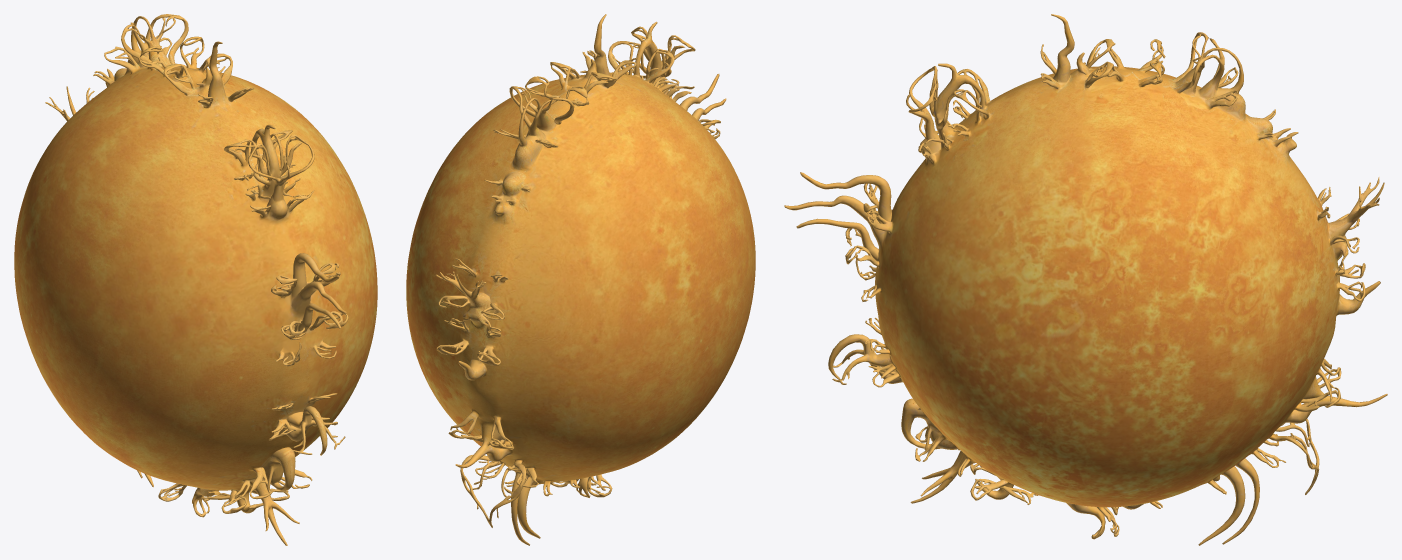
The model's file is sun-model.glb.
The picture shows the model from 3 angles, left to right: view 1: azimuth 30°, elevation 25°; view 2: azimuth 150°, elevation 25°; view 3: azimuth 270°, elevation 25°; orthographic projection. The views are drawn at different scales.
Visible parts, largest first — view 1: tripo_node_b7eddbd8-3be7-4333-8d34-7fcb0563cbb7; view 2: tripo_node_b7eddbd8-3be7-4333-8d34-7fcb0563cbb7; view 3: tripo_node_b7eddbd8-3be7-4333-8d34-7fcb0563cbb7.
Boxes of the visible parts, box(x1,y1,x2,y2) form: tripo_node_b7eddbd8-3be7-4333-8d34-7fcb0563cbb7: box(14, 14, 377, 545); tripo_node_b7eddbd8-3be7-4333-8d34-7fcb0563cbb7: box(406, 14, 755, 545); tripo_node_b7eddbd8-3be7-4333-8d34-7fcb0563cbb7: box(784, 14, 1387, 545).
Size of the model in its own units: 0.6101 by 0.9726 by 1.
1 material, 1 textured.
